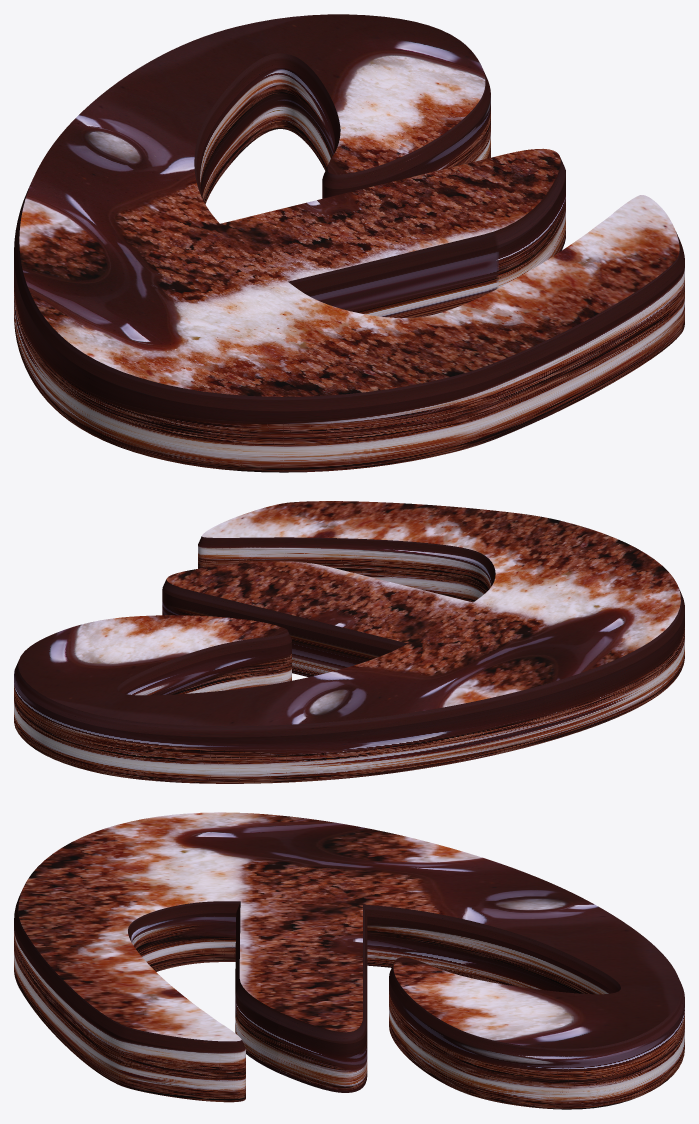
The model's file is myE.FBX.
The picture shows the model from 3 angles, top to bottom: view 1: azimuth 30°, elevation 25°; view 2: azimuth 150°, elevation 25°; view 3: azimuth 270°, elevation 25°; orthographic projection. The views are drawn at different scales.
Visible parts, largest first — view 1: myB; view 2: myB; view 3: myB.
Part boxes in pixels (x1,y1,x2,y2): myB: (14, 14, 684, 472); myB: (14, 501, 684, 783); myB: (14, 812, 684, 1109).
Size of the model in its own units: 52.4 by 6 by 61.9.
Materials: 1 (1 with a texture image).
